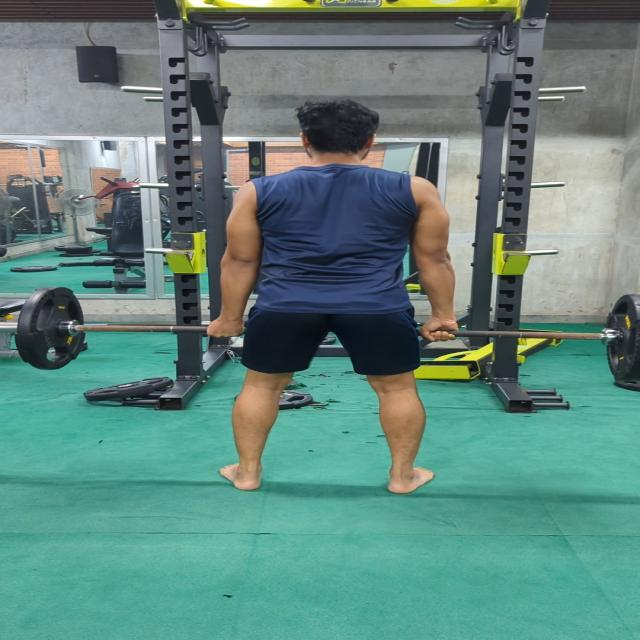Normal_Deadlifts: (203, 100, 460, 495)
